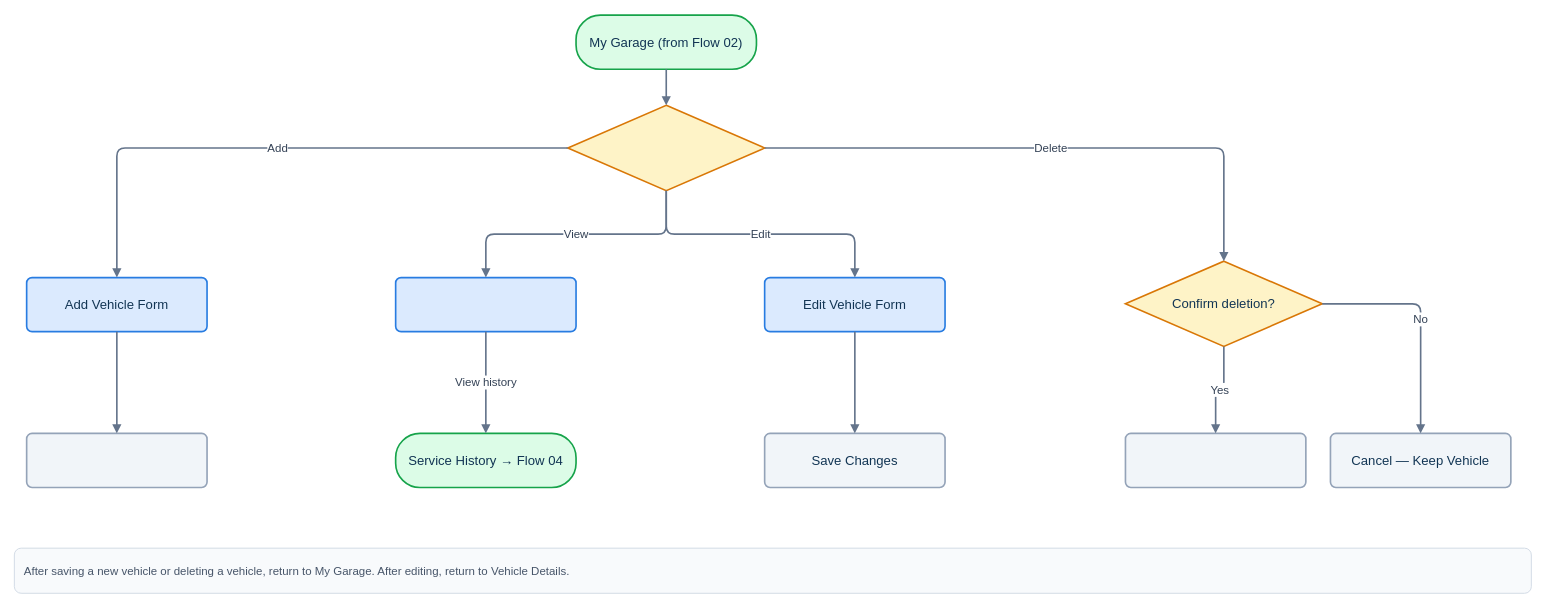
This 1546x608 diagram has some shape labels left out. The centre of each missing label's shape, as x and y in pixels:
"Delete Vehicle" goes at (x=1215, y=460).
"Save New Vehicle" goes at (x=116, y=460).
"Select vehicle action" goes at (x=666, y=147).
"Vehicle Details" goes at (x=485, y=304).
